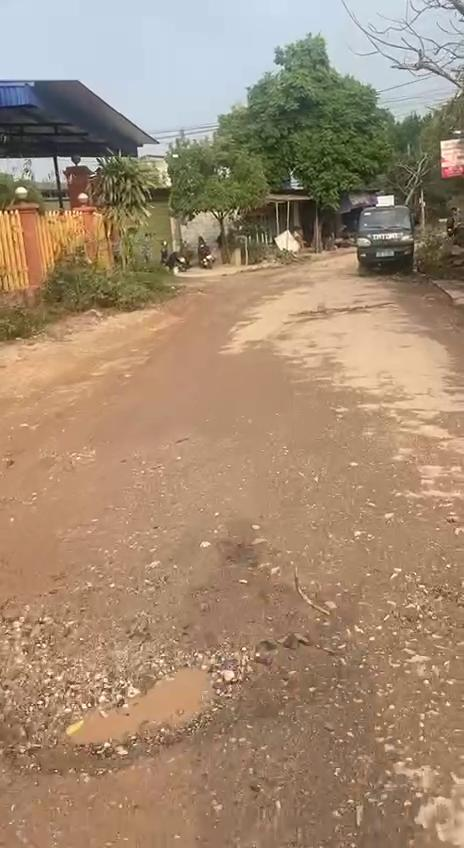pothole: (0, 637, 254, 777)
